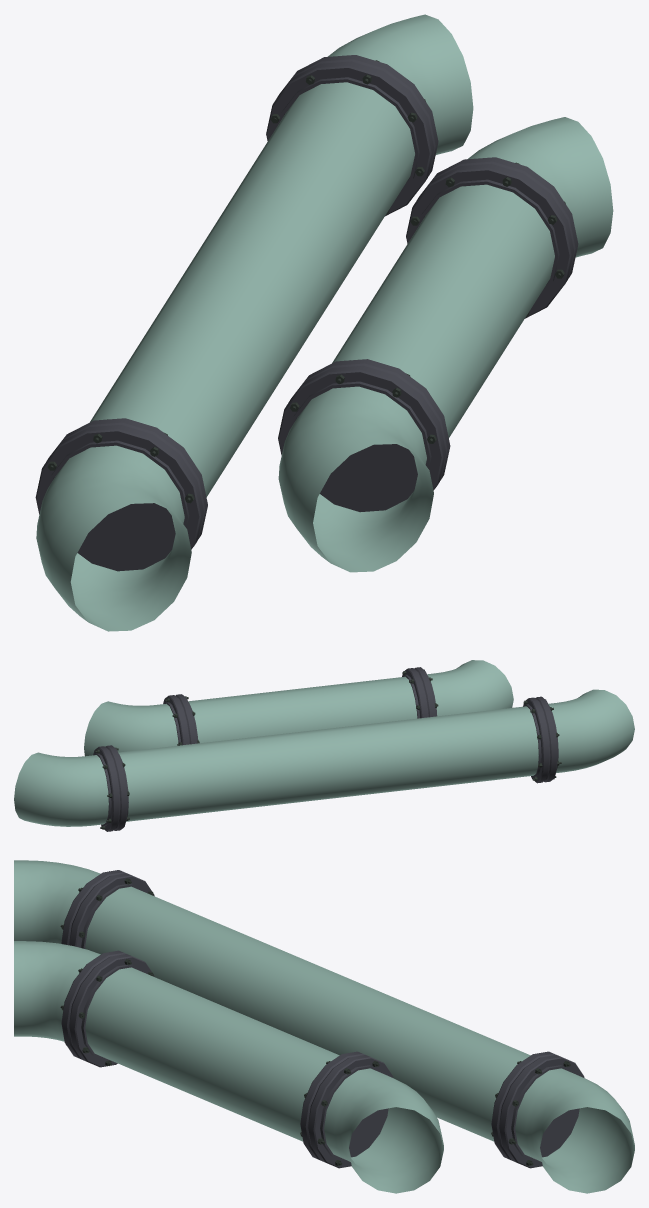
The model's file is PipeComplexLarge_A2_19.fbx.
The picture shows the model from 3 angles, top to bottom: view 1: azimuth 30°, elevation 25°; view 2: azimuth 150°, elevation 25°; view 3: azimuth 270°, elevation 25°; orthographic projection. The views are drawn at different scales.
Parts seen in each view (by area): view 1: PipeComplexLarge_A2_19.001; view 2: PipeComplexLarge_A2_19.001; view 3: PipeComplexLarge_A2_19.001.
Part boxes in pixels (x1=…): PipeComplexLarge_A2_19.001: x1=35, y1=14, x2=613, y2=631; PipeComplexLarge_A2_19.001: x1=14, y1=660, x2=634, y2=831; PipeComplexLarge_A2_19.001: x1=14, y1=860, x2=634, y2=1193.
Size of the model in its own units: 1.3 by 0.245 by 1.3.
